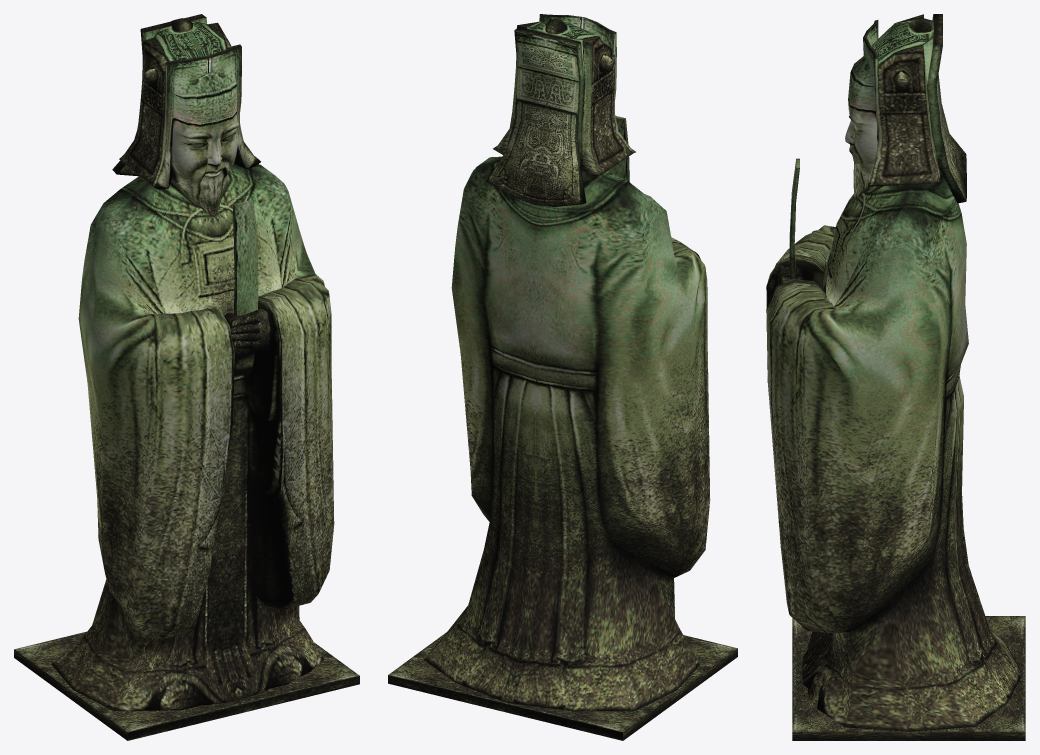
The model's file is zc_long09.FBX.
3 views of the same model, side by side, from view 1: azimuth 30°, elevation 25°; view 2: azimuth 150°, elevation 25°; view 3: azimuth 270°, elevation 25° (orthographic). The views are drawn at different scales.
Parts seen in each view (by area): view 1: DES_N_renxing_001; view 2: DES_N_renxing_001; view 3: DES_N_renxing_001.
Part boxes in pixels (bbox=[...]): DES_N_renxing_001: bbox=[14, 14, 359, 740]; DES_N_renxing_001: bbox=[388, 14, 737, 740]; DES_N_renxing_001: bbox=[766, 14, 1025, 740].
Bounding box in the file's own units: 1.06 × 2.82 × 0.9968.
